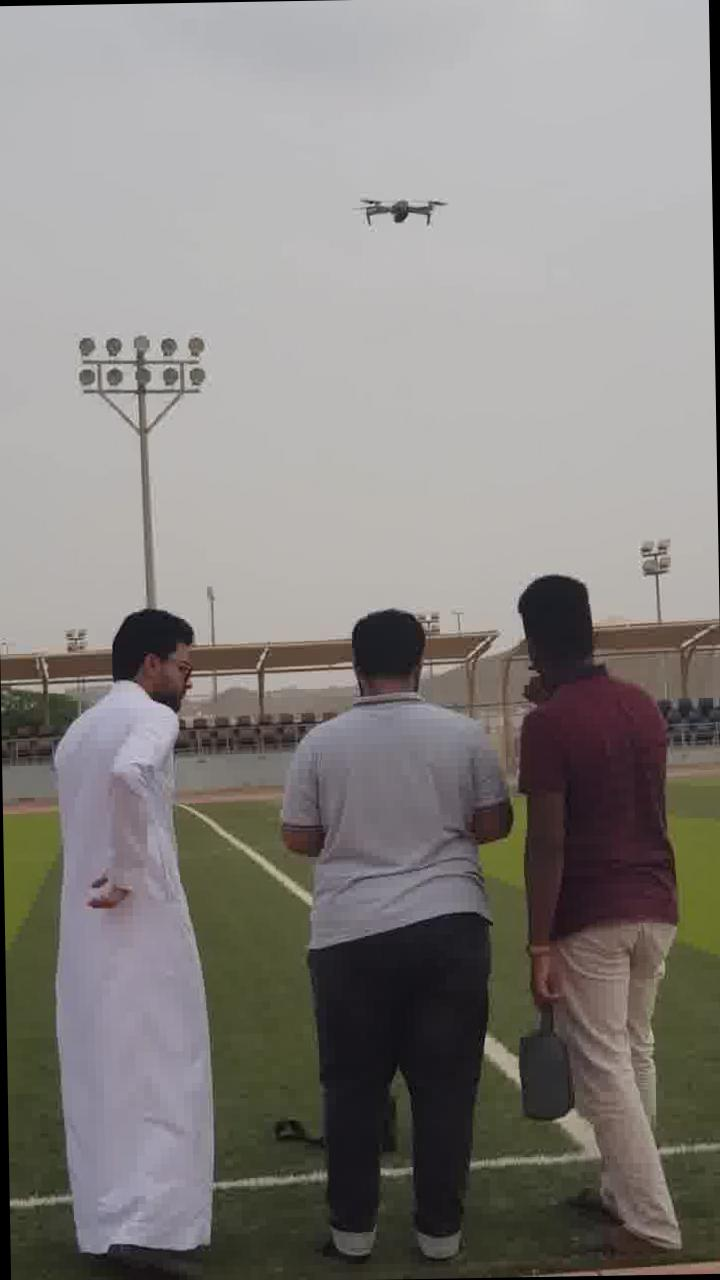drone: (349, 188, 458, 235)
